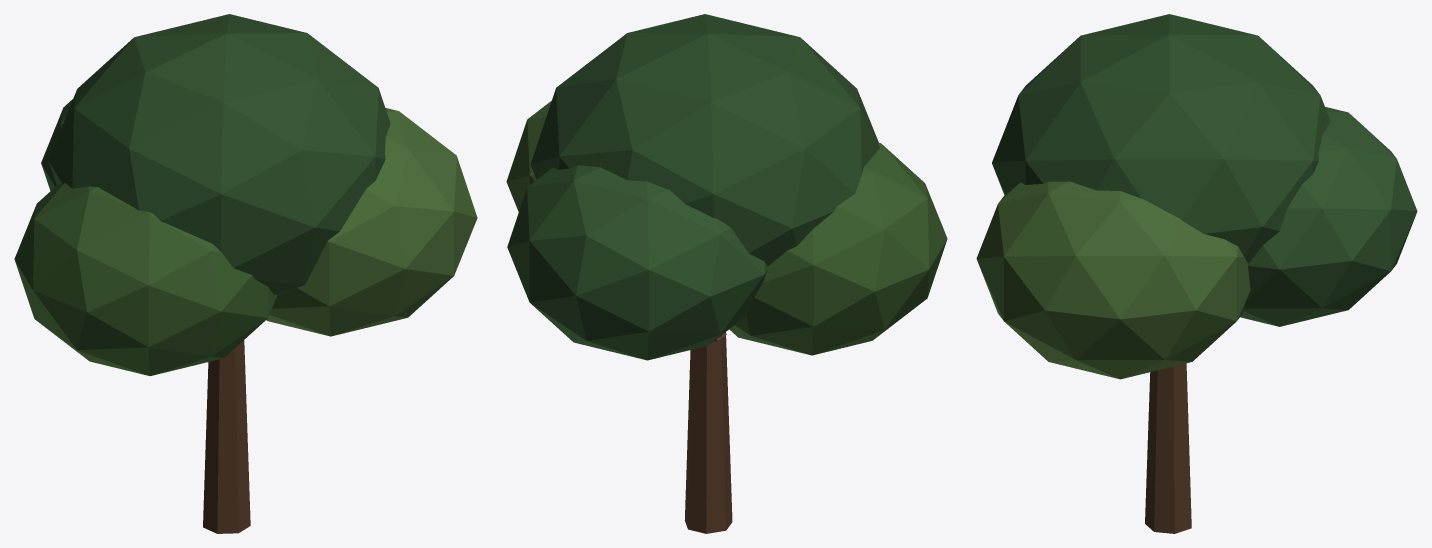
The model's file is forest_oak.glb.
3 views of the same model, side by side, from view 1: azimuth 30°, elevation 25°; view 2: azimuth 150°, elevation 25°; view 3: azimuth 270°, elevation 25° (orthographic).
Parts seen in each view (by area): view 1: forest_oak_LOD0; view 2: forest_oak_LOD0; view 3: forest_oak_LOD0.
Boxes of the visible parts, x1,y1,x2,y2 form: forest_oak_LOD0: [14, 14, 477, 533]; forest_oak_LOD0: [506, 14, 947, 533]; forest_oak_LOD0: [976, 14, 1417, 533].
Size of what is drawn, in the model's own units: 7.8 by 8.82 by 7.2.
